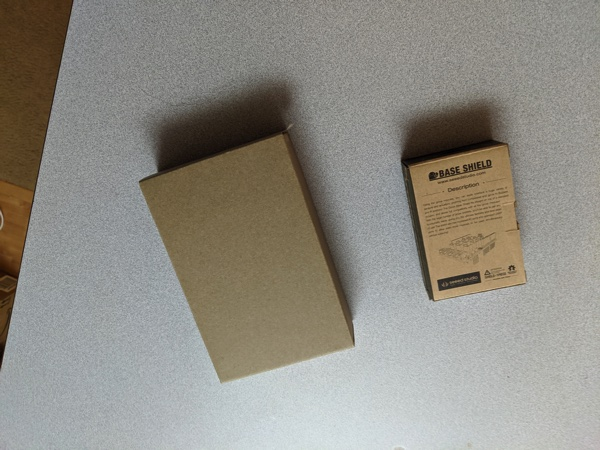cardboard: (123, 115, 362, 393), (395, 135, 536, 321)
